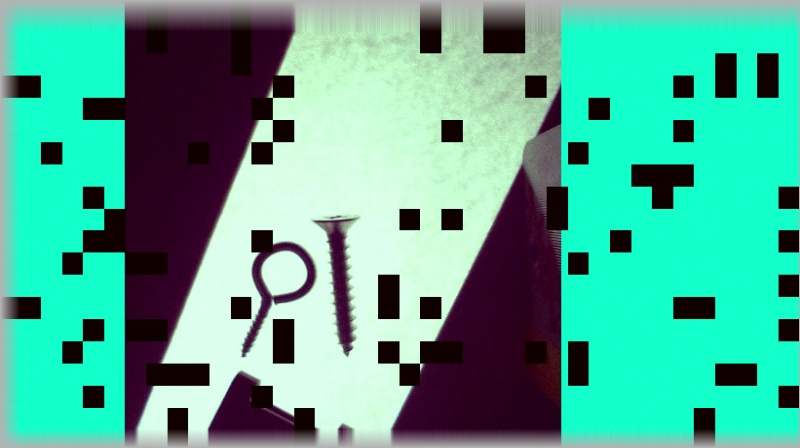O001: (235, 239, 319, 359)
O002: (198, 369, 364, 447)
S001: (310, 206, 366, 358)
